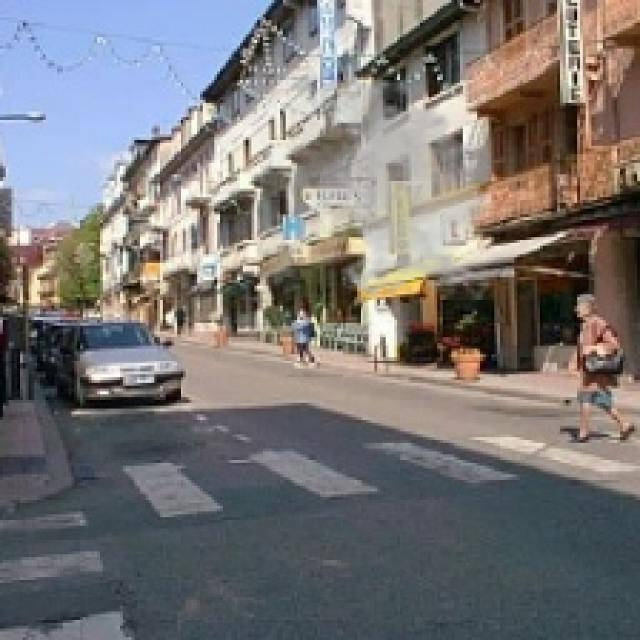Smoke: (260, 63, 497, 300)
